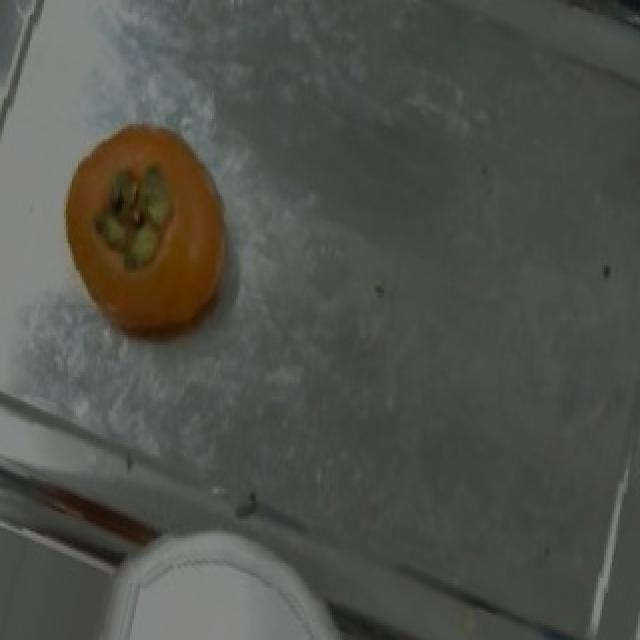Fruit: (36, 112, 254, 357), (100, 538, 318, 640)
